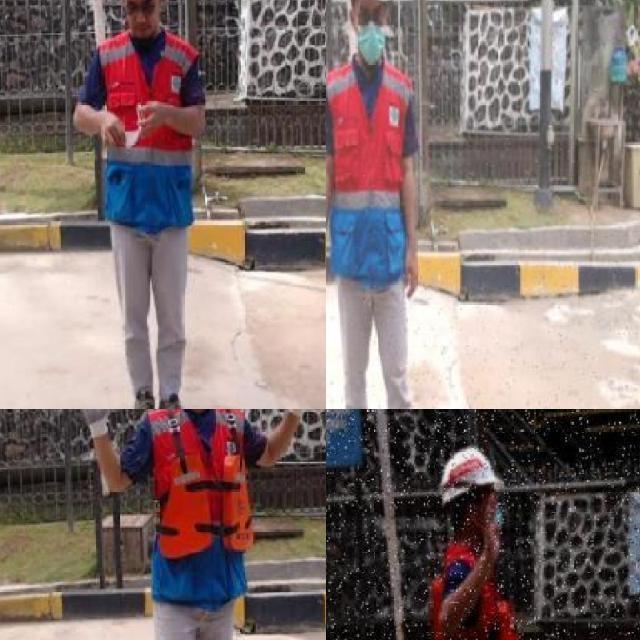apron: (70, 409, 115, 435)
